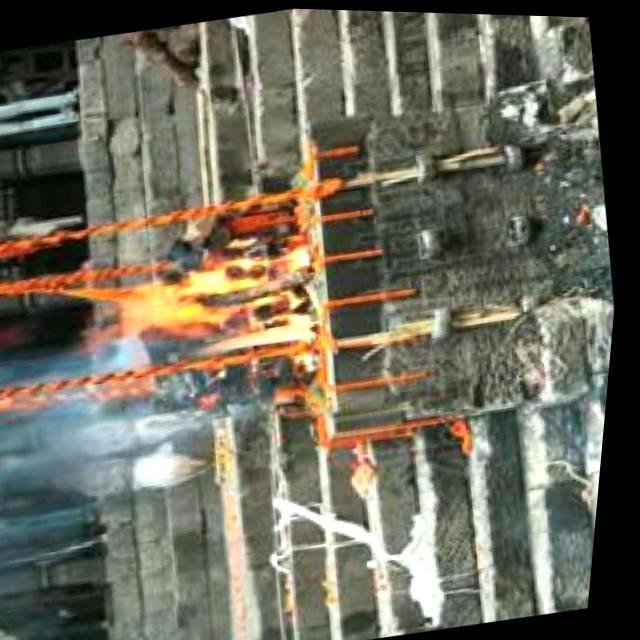fire: (74, 238, 330, 386)
